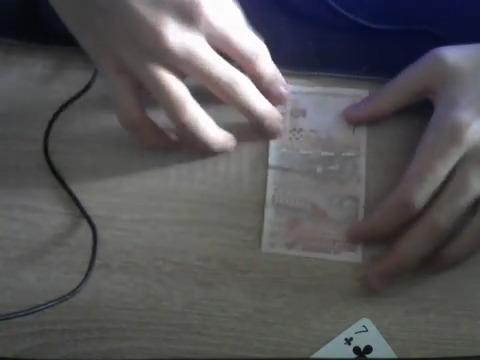5leva: (261, 70, 381, 265)
